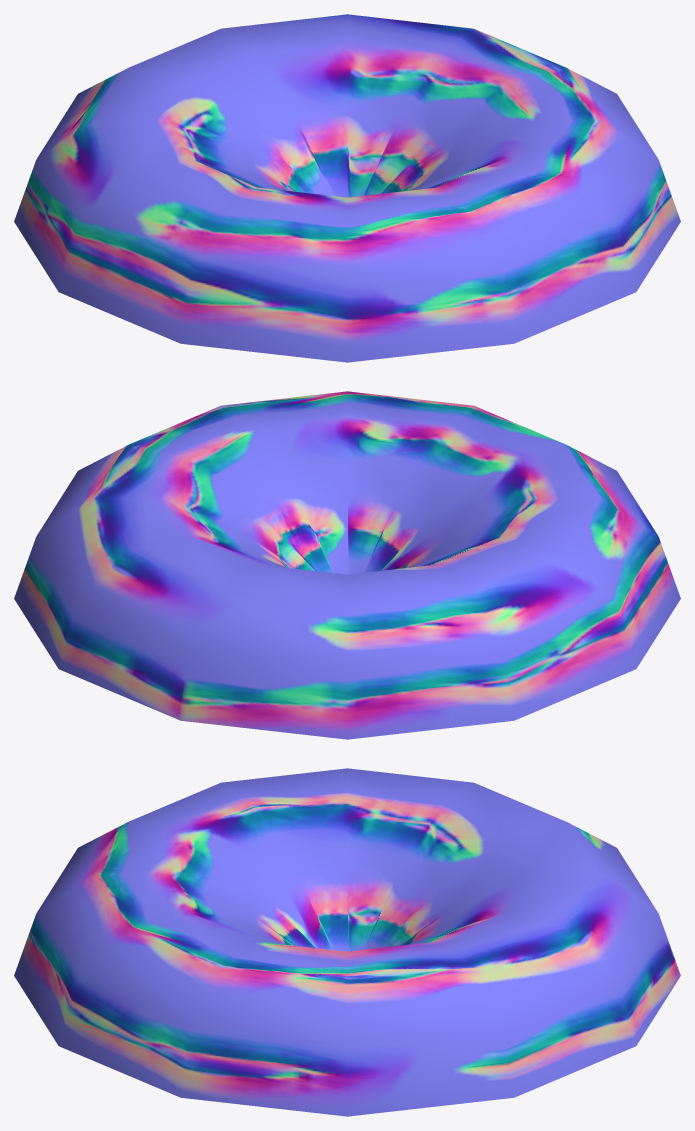
Rendered from effect_09_shockwave.FBX.
3 renders of one model, top to bottom at view 1: azimuth 30°, elevation 25°; view 2: azimuth 150°, elevation 25°; view 3: azimuth 270°, elevation 25°, orthographic.
Parts seen in each view (by area): view 1: effect_09_shockwave; view 2: effect_09_shockwave; view 3: effect_09_shockwave.
Part boxes in pixels (<box>): effect_09_shockwave: <box>14,14,680,362</box>; effect_09_shockwave: <box>14,391,680,739</box>; effect_09_shockwave: <box>14,768,680,1116</box>.
Size of the model in its own units: 0.1374 by 0.0228 by 0.1374.
